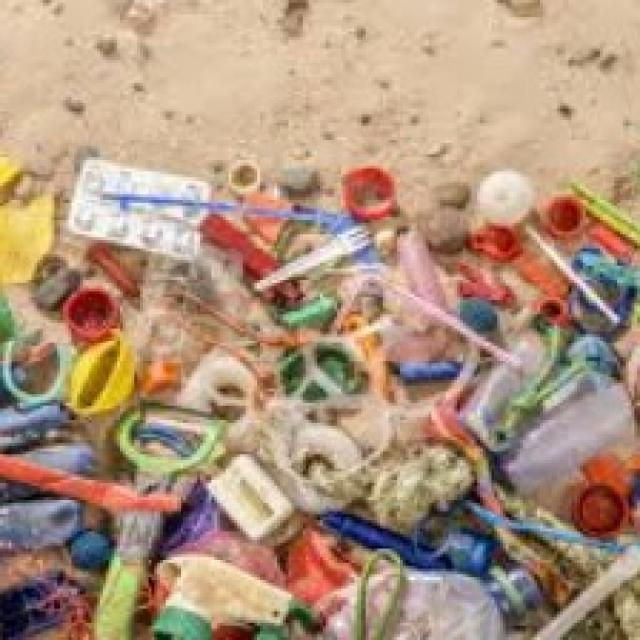others: (1, 147, 640, 640)
